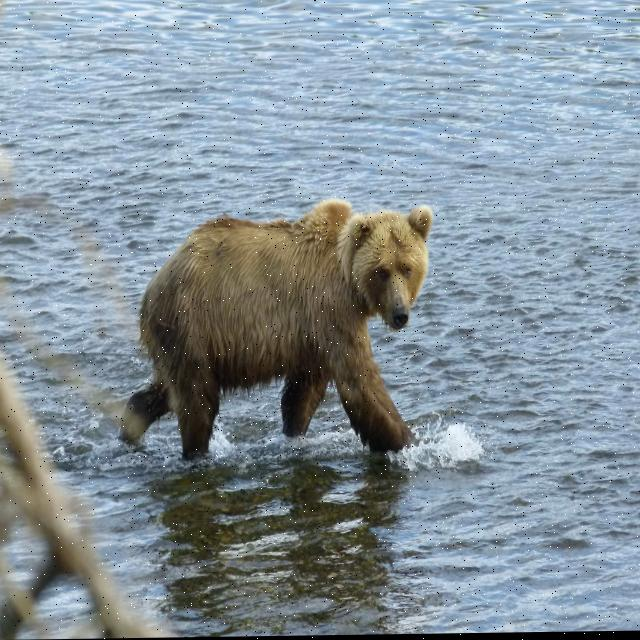bear face: (124, 203, 433, 459)
